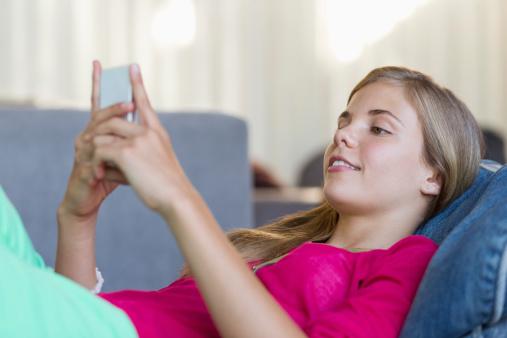deitado: (5, 52, 493, 338)
